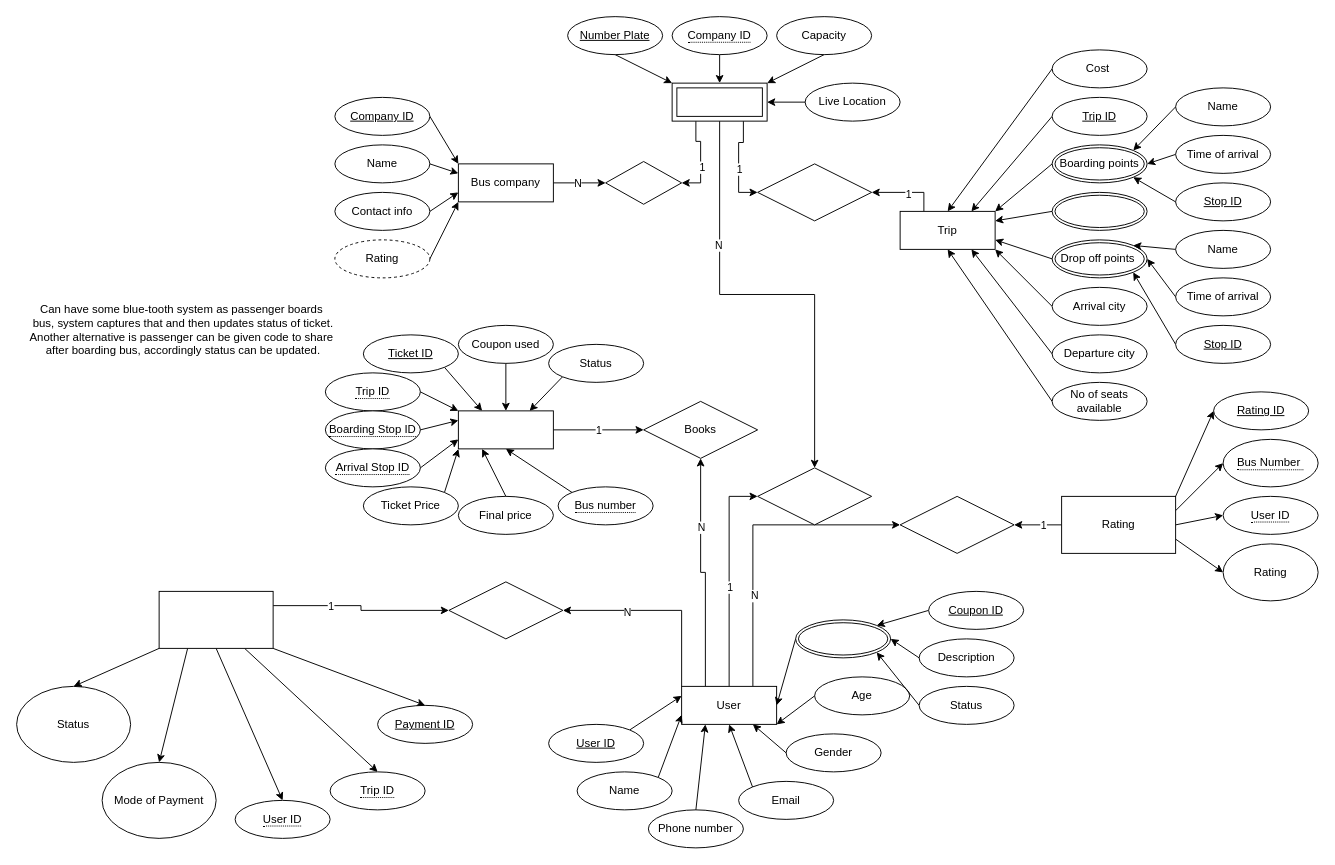
This 1335x865 diagram has some shape labels left out. Each missing label, with the box of its shape:
Amenities/ features: (1051, 191, 1147, 230)
Assigned to: (757, 163, 872, 221)
Boards: (757, 467, 872, 525)
Bus: (671, 82, 767, 121)
Discount Coupons: (795, 619, 891, 658)
Gives: (899, 495, 1014, 553)
Has: (605, 161, 682, 204)
Makes: (448, 581, 563, 639)
Payment: (158, 590, 273, 648)
Ticket: (457, 410, 553, 449)
